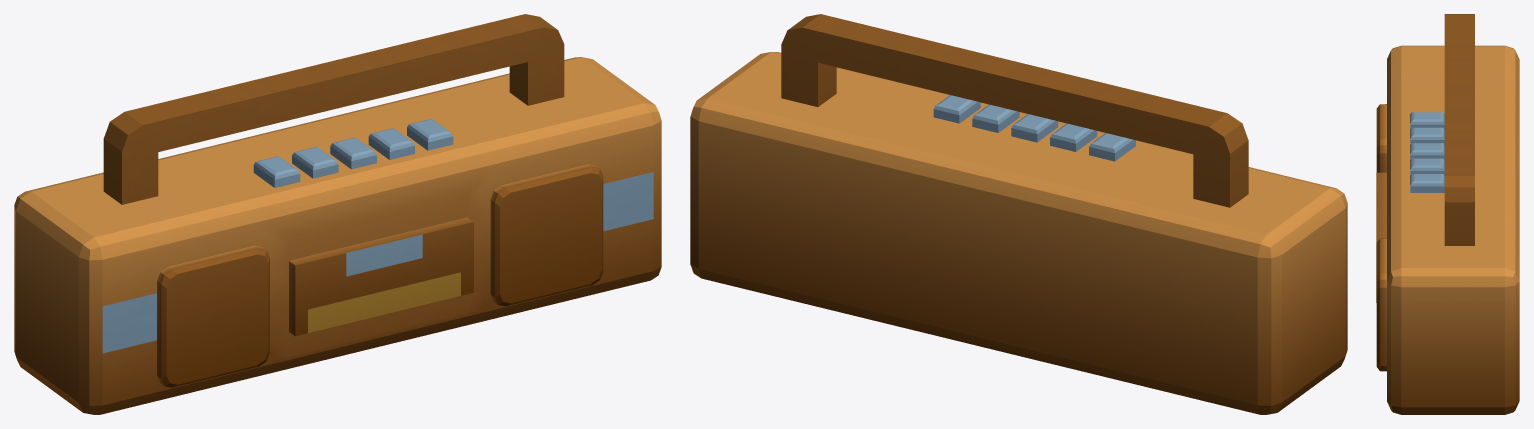
Rendered from musa.fbx.
The picture shows the model from 3 angles, left to right: view 1: azimuth 30°, elevation 25°; view 2: azimuth 150°, elevation 25°; view 3: azimuth 270°, elevation 25°; orthographic projection. The views are drawn at different scales.
Visible parts, largest first — view 1: Cube; view 2: Cube; view 3: Cube.
Part boxes in pixels (x1,y1,x2,y2): Cube: [14, 14, 661, 414]; Cube: [690, 14, 1347, 414]; Cube: [1376, 14, 1519, 414].
Size of the model in its own units: 4.81 by 2 by 1.24.
